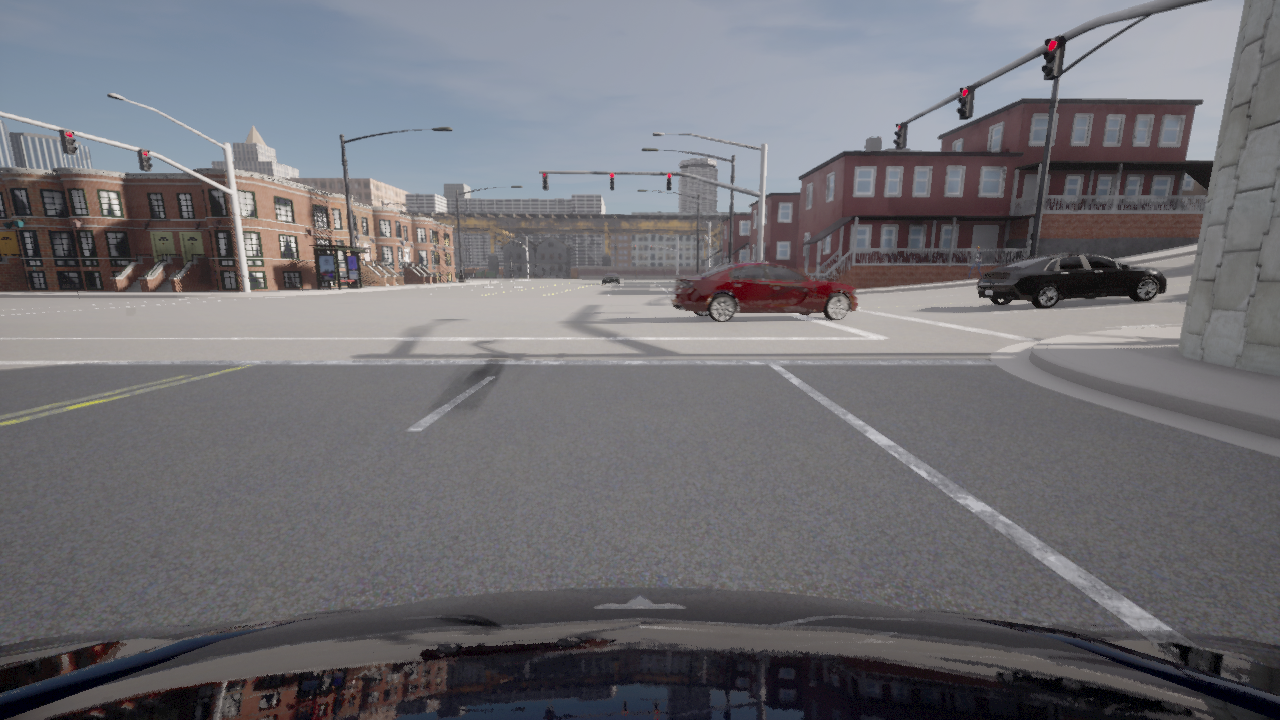cyclist: (0, 588, 1279, 719), (670, 261, 858, 322), (976, 253, 1166, 308), (600, 273, 618, 283)
pedestrian: (965, 245, 981, 279)
